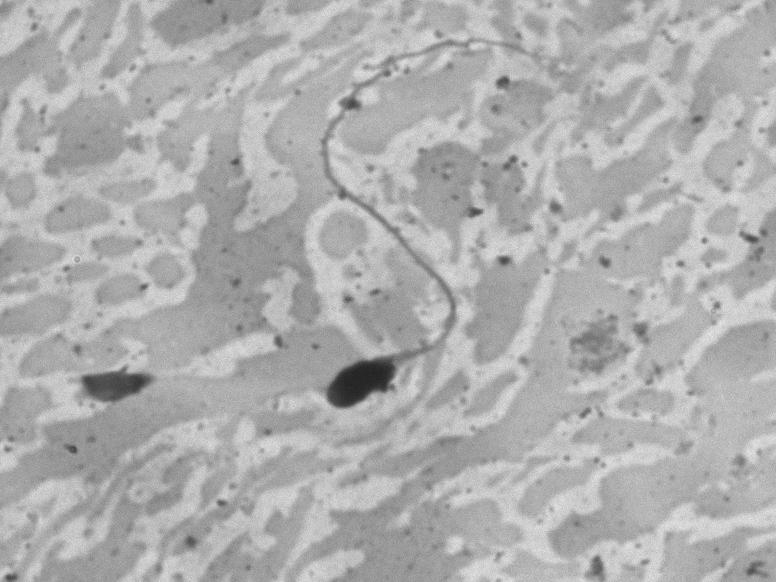Abnormal: (281, 20, 545, 430)
